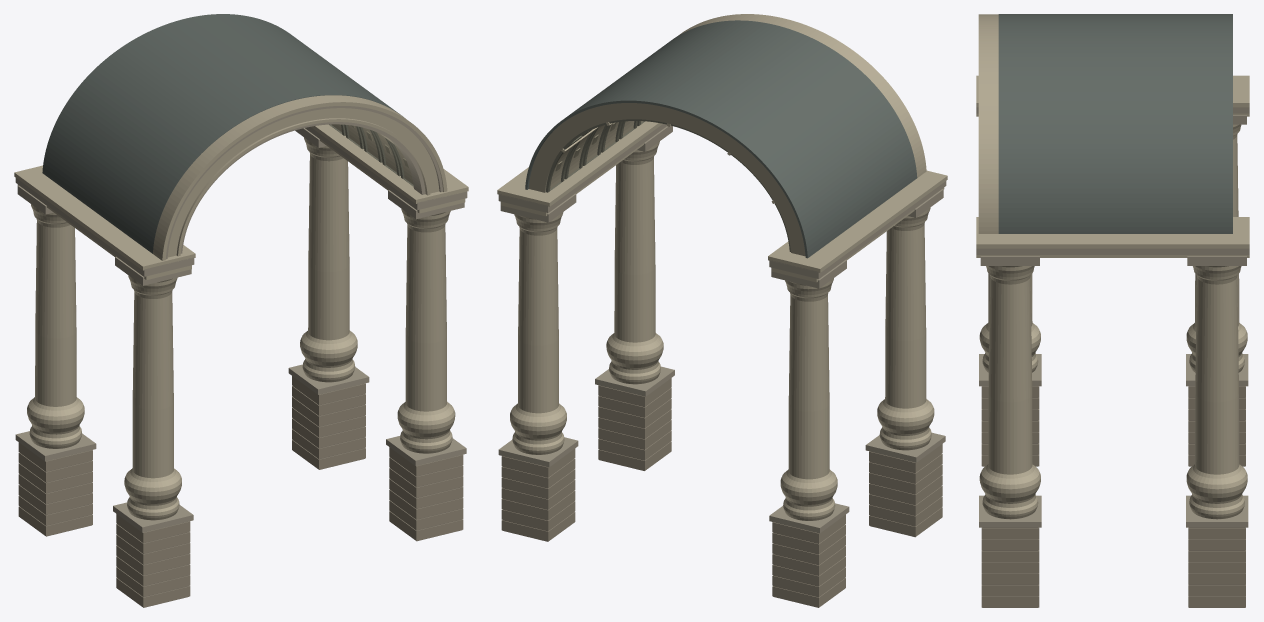
Rendered from hongkou-duolun-123-vaulted-entrance-web.glb.
The picture shows the model from 3 angles, left to right: view 1: azimuth 30°, elevation 25°; view 2: azimuth 150°, elevation 25°; view 3: azimuth 270°, elevation 25°; orthographic projection. The views are drawn at different scales.
Parts seen in each view (by area): view 1: 多伦路123号老电影咖啡馆四柱拱廊与分格券底; view 2: 多伦路123号老电影咖啡馆四柱拱廊与分格券底; view 3: 多伦路123号老电影咖啡馆四柱拱廊与分格券底.
Boxes of the visible parts, x1,y1,x2,y2 form: 多伦路123号老电影咖啡馆四柱拱廊与分格券底: (14, 14, 468, 607); 多伦路123号老电影咖啡馆四柱拱廊与分格券底: (497, 14, 947, 607); 多伦路123号老电影咖啡馆四柱拱廊与分格券底: (976, 14, 1249, 607).
Bounding box in the file's own units: 2.53 × 3.44 × 1.73.
